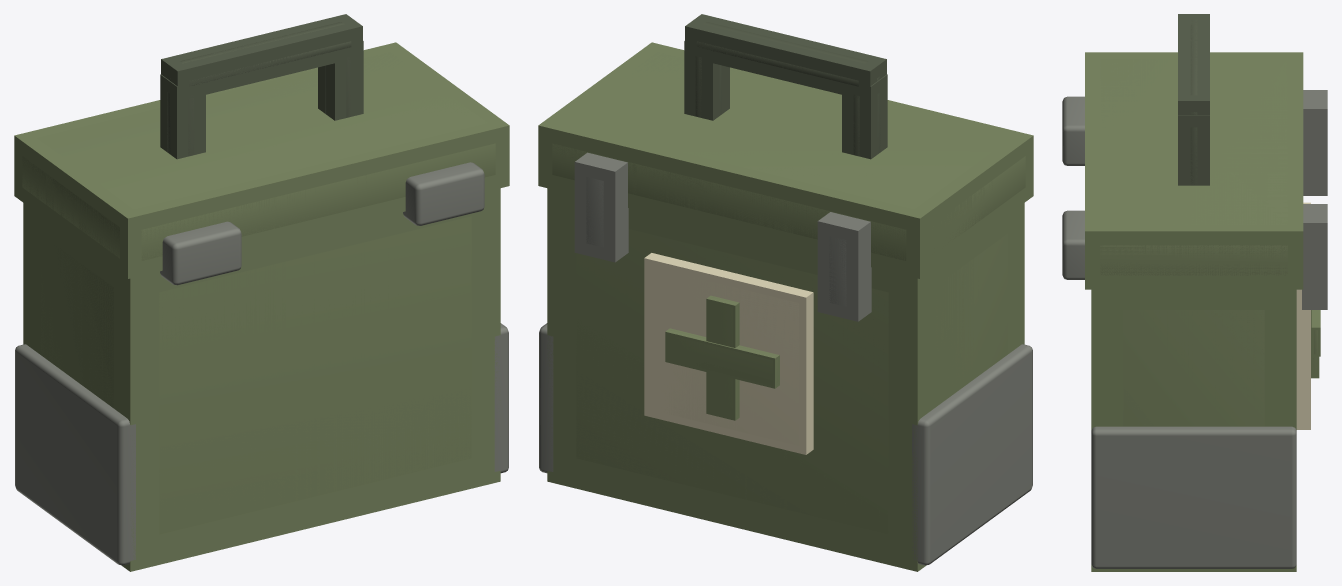
The model's file is FieldMedkit.glb.
The picture shows the model from 3 angles, left to right: view 1: azimuth 30°, elevation 25°; view 2: azimuth 150°, elevation 25°; view 3: azimuth 270°, elevation 25°; orthographic projection. The views are drawn at different scales.
Visible parts, largest first — view 1: LOD0_GearCanvas, LOD1_GearCanvas, LOD0_GearSteel, LOD1_GearStrap, LOD0_GearStrap; view 2: LOD0_GearCanvas, LOD1_GearCanvas, LOD0_GearSteel, LOD1_GearMark, LOD1_GearStrap, LOD0_GearMark, LOD1_GearSteel, LOD0_GearStrap; view 3: LOD1_GearCanvas, LOD0_GearCanvas, LOD0_GearSteel, LOD1_GearSteel, LOD1_GearStrap, LOD1_GearMark, LOD0_GearStrap.
Boxes of the visible parts, x1,y1,x2,y2 form: LOD0_GearCanvas: (22, 51, 495, 534); LOD1_GearCanvas: (14, 42, 509, 571); LOD0_GearSteel: (15, 162, 508, 565); LOD1_GearStrap: (160, 14, 363, 159); LOD0_GearStrap: (167, 22, 351, 156); LOD0_GearCanvas: (552, 51, 1025, 534); LOD1_GearCanvas: (538, 42, 1033, 571); LOD0_GearSteel: (539, 177, 1032, 565); LOD1_GearMark: (644, 253, 813, 454); LOD1_GearStrap: (684, 14, 887, 159); LOD0_GearMark: (654, 272, 799, 445); LOD1_GearSteel: (574, 152, 871, 321); LOD0_GearStrap: (695, 22, 880, 156); LOD1_GearCanvas: (1085, 52, 1320, 571); LOD0_GearCanvas: (1100, 58, 1317, 426); LOD0_GearSteel: (1062, 96, 1296, 568); LOD1_GearSteel: (1302, 90, 1327, 309); LOD1_GearStrap: (1178, 14, 1209, 185); LOD1_GearMark: (1296, 202, 1310, 429); LOD0_GearStrap: (1190, 19, 1197, 185).
Size of the model in its own units: 0.338 by 0.3675 by 0.2065.
